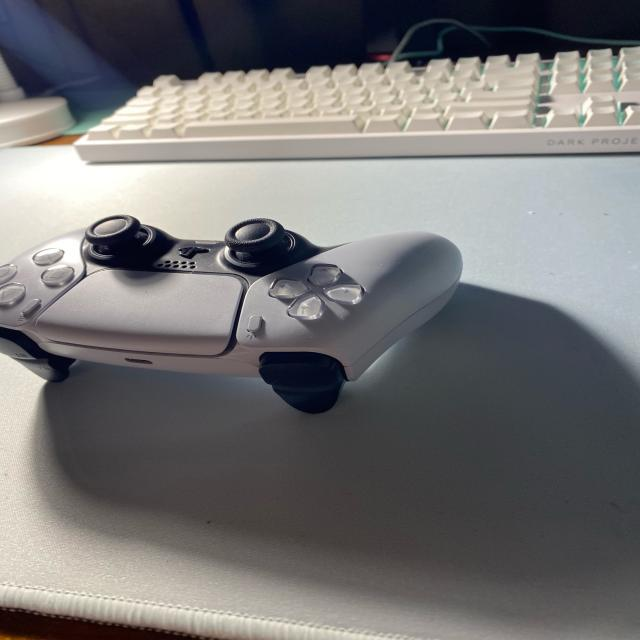dualsensePhoto: (0, 215, 462, 412), (0, 225, 462, 381), (37, 269, 243, 355), (258, 352, 345, 414), (288, 294, 325, 320), (323, 284, 363, 304), (268, 279, 308, 299), (0, 338, 35, 360), (308, 264, 342, 286), (42, 265, 75, 286), (235, 222, 270, 241), (93, 219, 127, 235), (33, 248, 63, 265), (178, 246, 210, 259), (20, 299, 42, 316), (247, 315, 263, 334)
